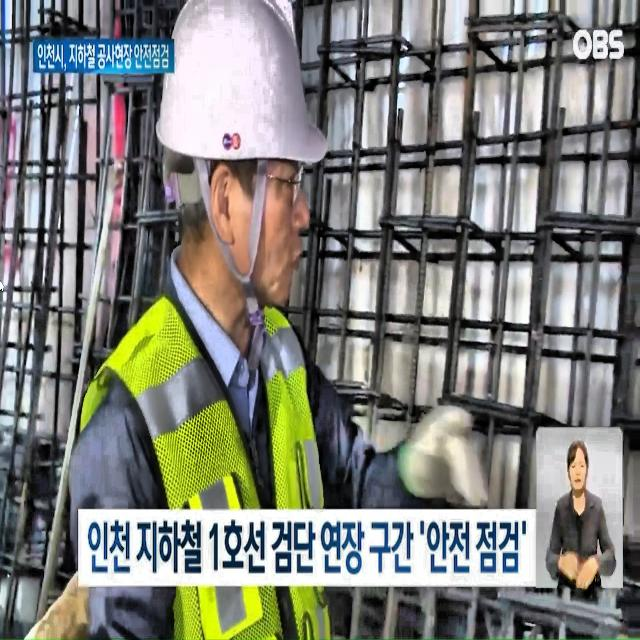safety_helmet: (130, 0, 339, 169)
safety_jacket: (83, 287, 341, 640)
